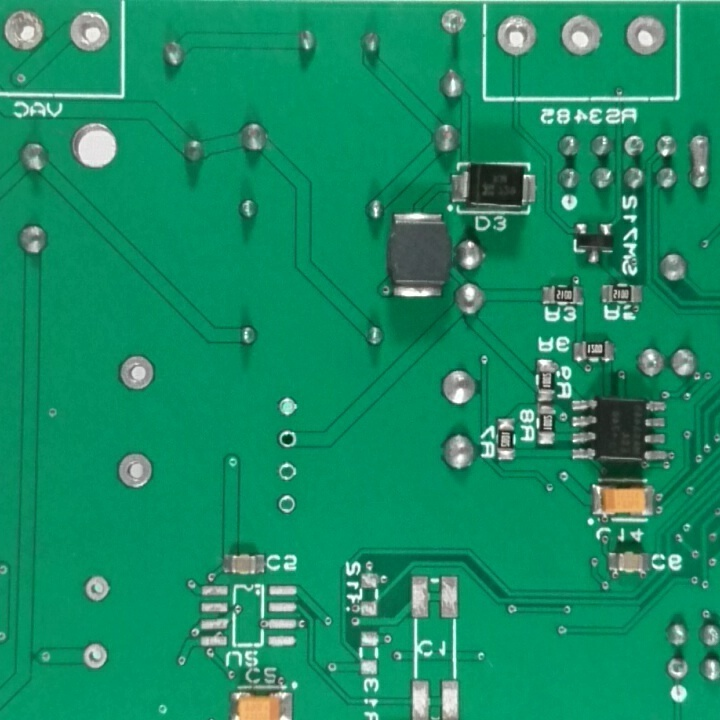F: (623, 15, 670, 62), (67, 7, 115, 53), (559, 12, 605, 60), (493, 14, 541, 59), (1, 6, 46, 52), (113, 350, 159, 392), (113, 449, 156, 489), (81, 570, 116, 605), (436, 5, 469, 37), (80, 640, 110, 672), (662, 653, 691, 685), (274, 395, 300, 420), (274, 426, 299, 452), (624, 131, 648, 158), (273, 491, 299, 515), (276, 458, 299, 483)
P: (684, 130, 715, 195)
